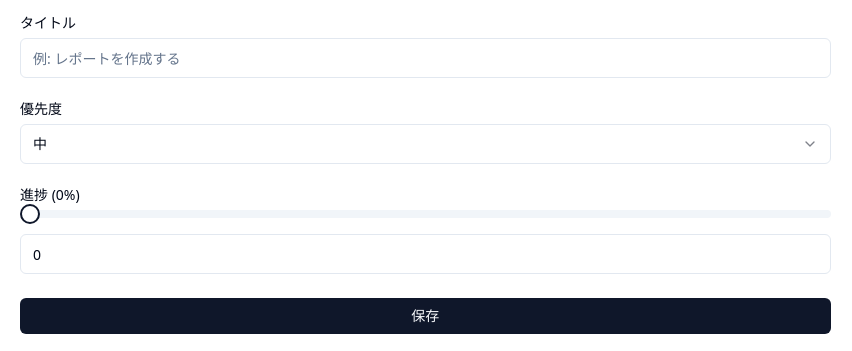
Test: TodoForm › 入力操作 › 進捗が100を超える場合、100に制限される
Replace the text in the number field with "150" at (425, 254), box [20,234,831,274]
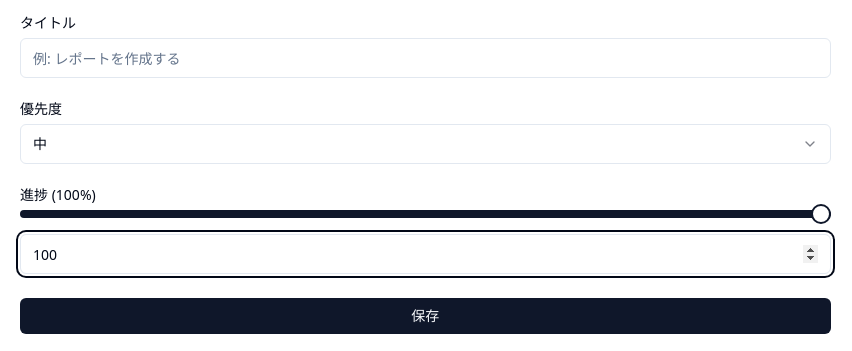
Check: the number field holds "100", box [20,234,831,274]
